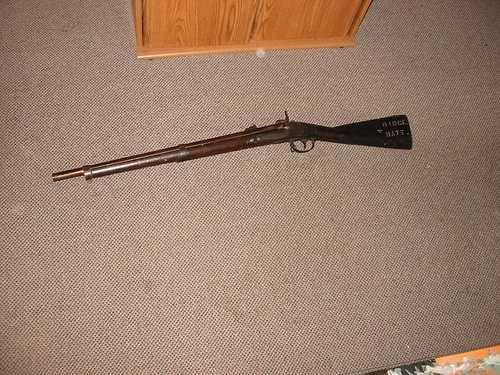heavyweapon: (28, 103, 433, 216)
